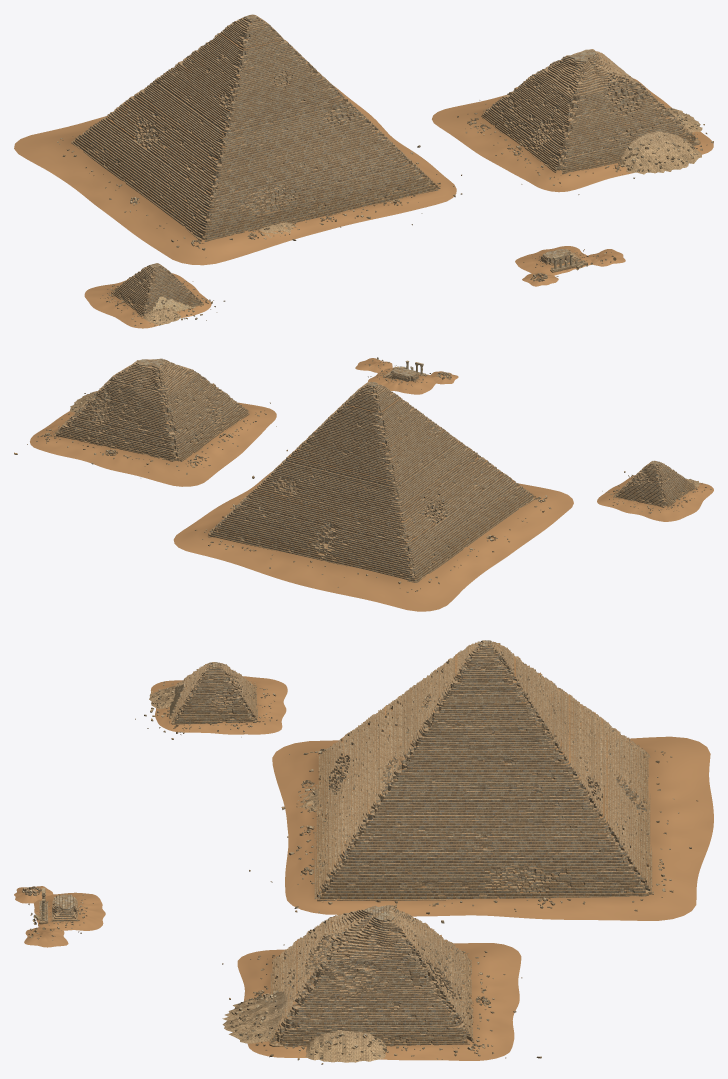
The model's file is pyramids.glb.
The picture shows the model from 3 angles, top to bottom: view 1: azimuth 30°, elevation 25°; view 2: azimuth 150°, elevation 25°; view 3: azimuth 270°, elevation 25°; orthographic projection. The views are drawn at different scales.
Parts seen in each view (by area): view 1: pyramid_great_mesh, pyramid_medium_mesh, pyramid_small_mesh, temple_ruin_mesh; view 2: pyramid_great_mesh, pyramid_medium_mesh, pyramid_small_mesh, temple_ruin_mesh; view 3: pyramid_great_mesh, pyramid_medium_mesh, pyramid_small_mesh, temple_ruin_mesh, column_drums_mesh.
Part boxes in pixels (left/top/right/bottom): pyramid_great_mesh: left=14, top=14, right=462, bottom=265; pyramid_medium_mesh: left=432, top=49, right=713, bottom=194; pyramid_small_mesh: left=84, top=263, right=225, bottom=328; temple_ruin_mesh: left=515, top=246, right=592, bottom=276; pyramid_great_mesh: left=173, top=381, right=573, bottom=611; pyramid_medium_mesh: left=14, top=358, right=276, bottom=486; pyramid_small_mesh: left=597, top=460, right=713, bottom=521; temple_ruin_mesh: left=368, top=360, right=435, bottom=394; pyramid_great_mesh: left=249, top=640, right=713, bottom=923; pyramid_medium_mesh: left=222, top=905, right=541, bottom=1064; pyramid_small_mesh: left=135, top=662, right=287, bottom=739; temple_ruin_mesh: left=28, top=888, right=105, bottom=933; column_drums_mesh: left=24, top=927, right=68, bottom=947.
Size of the model in its own units: 612 by 140 by 466.
Materials: 2 (1 with a texture image).
